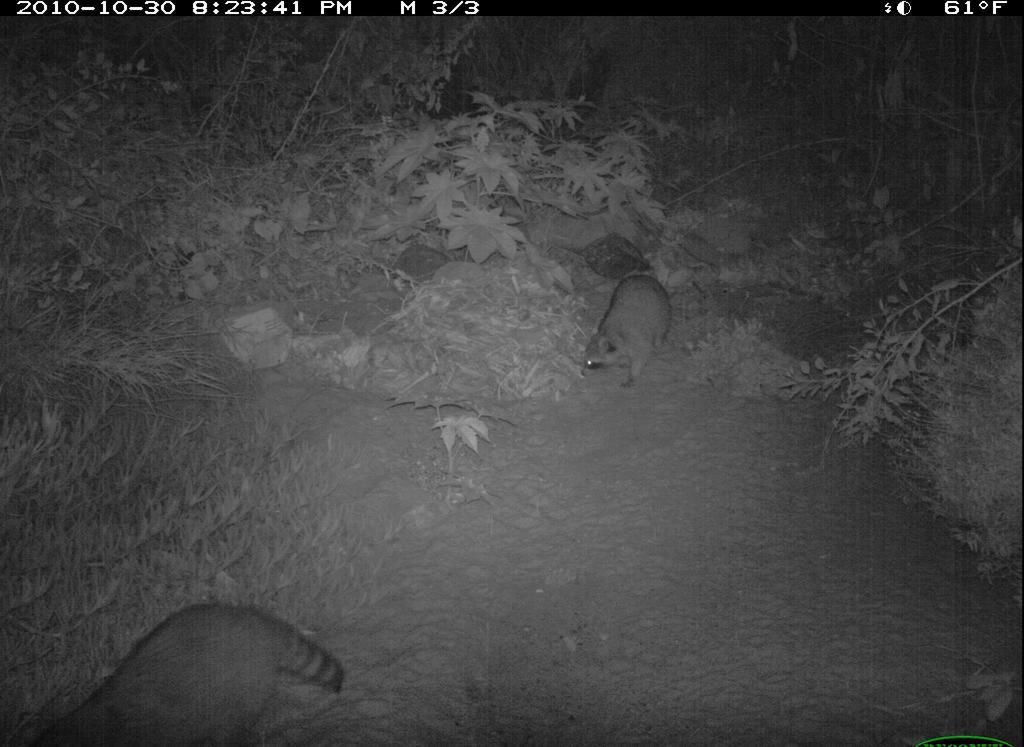raccoon: (39, 594, 360, 747), (579, 259, 678, 397)
